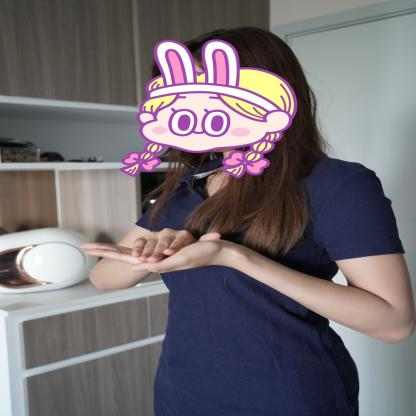Love: (75, 226, 253, 280)
